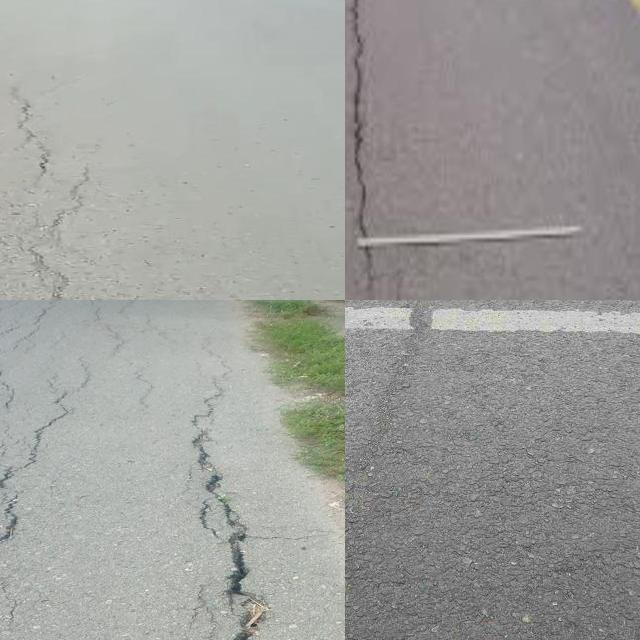Memanjang: (176, 355, 279, 640), (345, 300, 441, 567), (0, 366, 106, 577), (345, 0, 409, 300)
